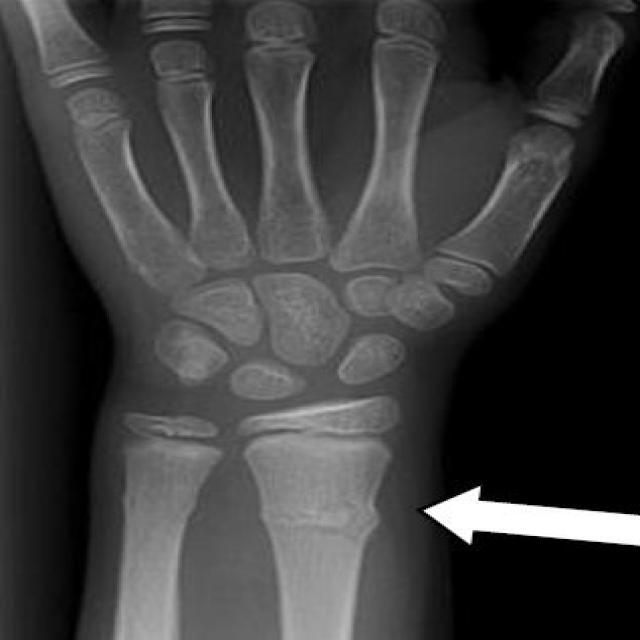bone: (244, 496, 394, 550)
